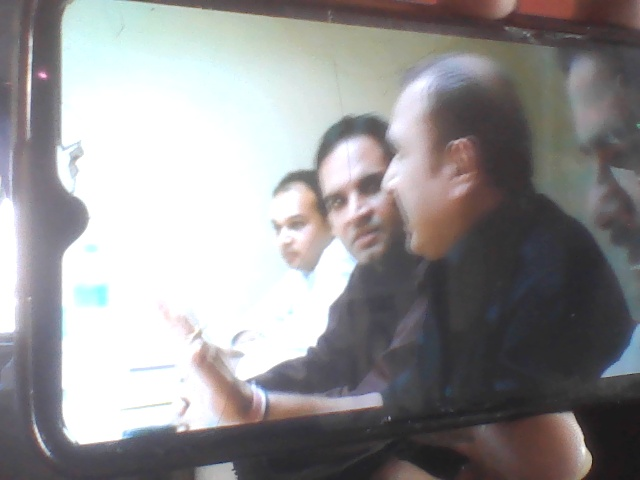fake: (300, 90, 428, 271)
